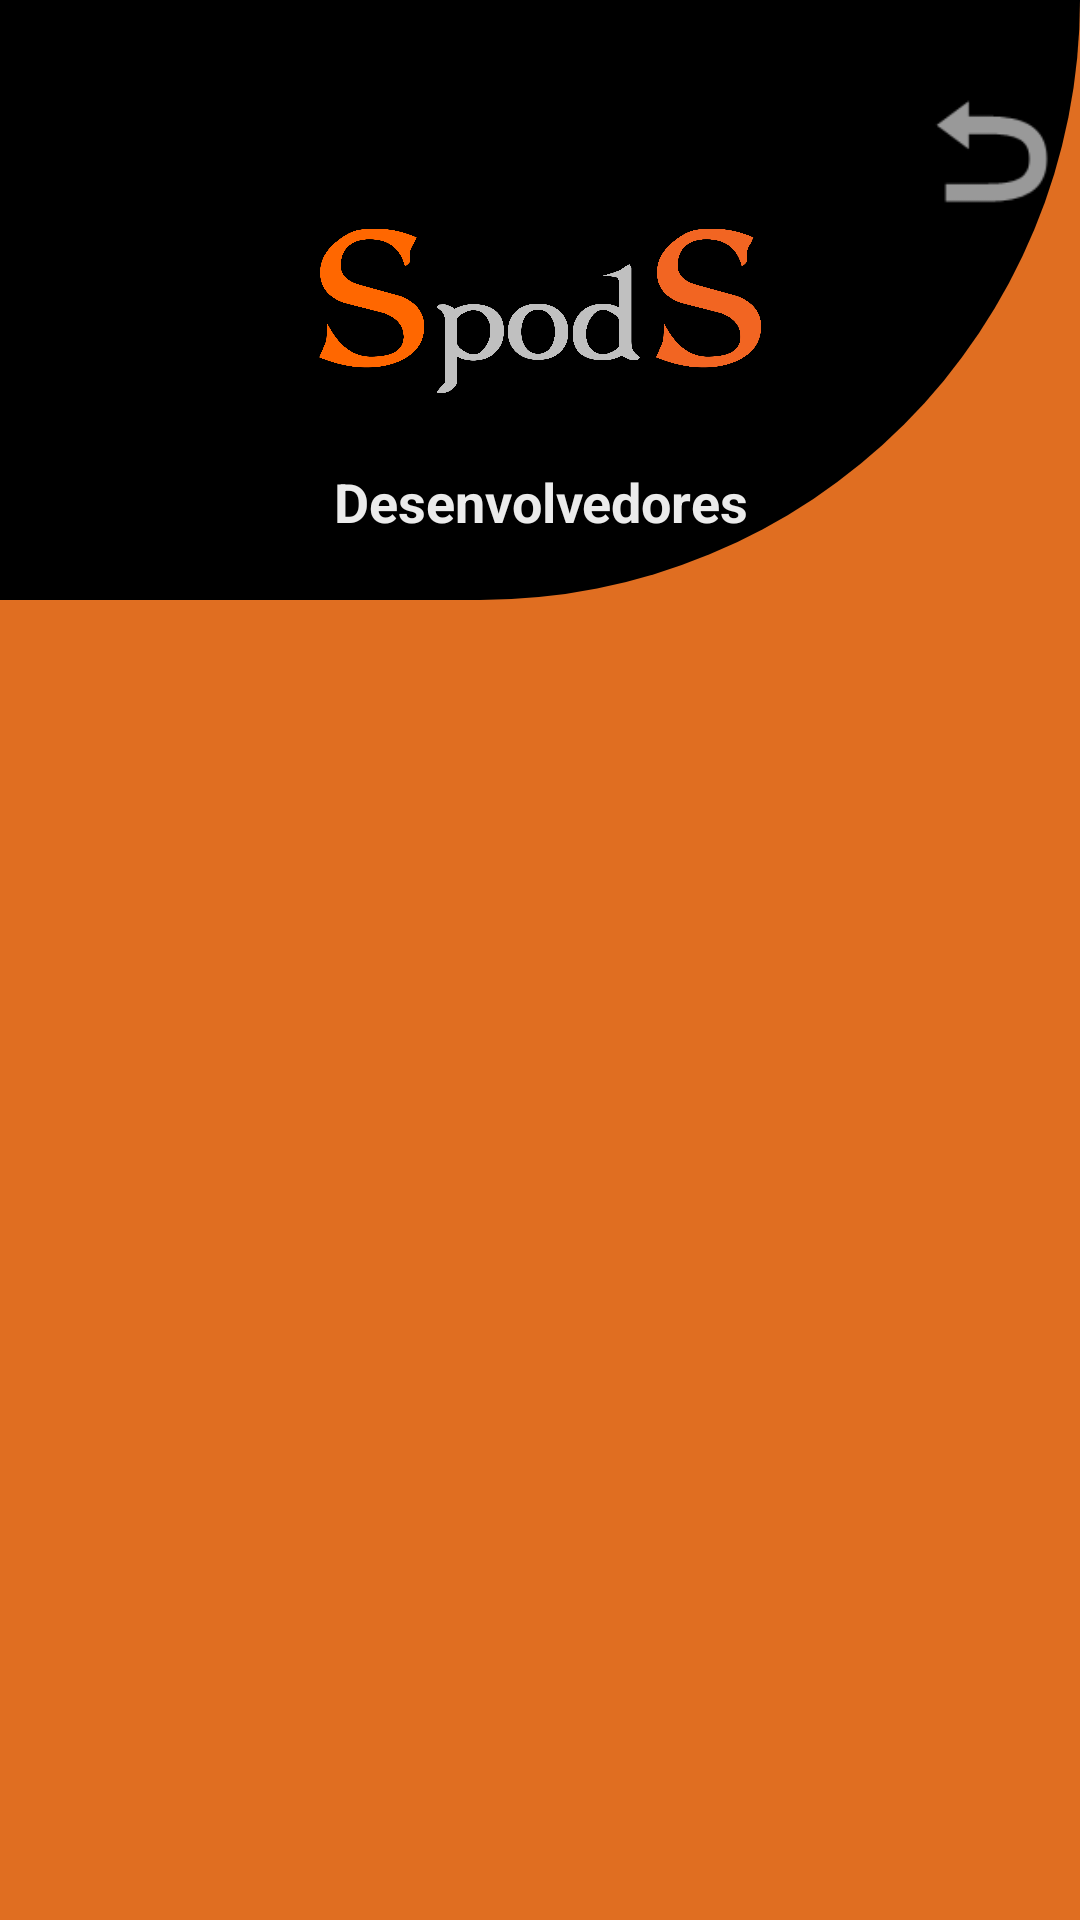

Named icons in this screenshot (1080×1920) and their centers, point (x, y):
revert: point (992, 152)
